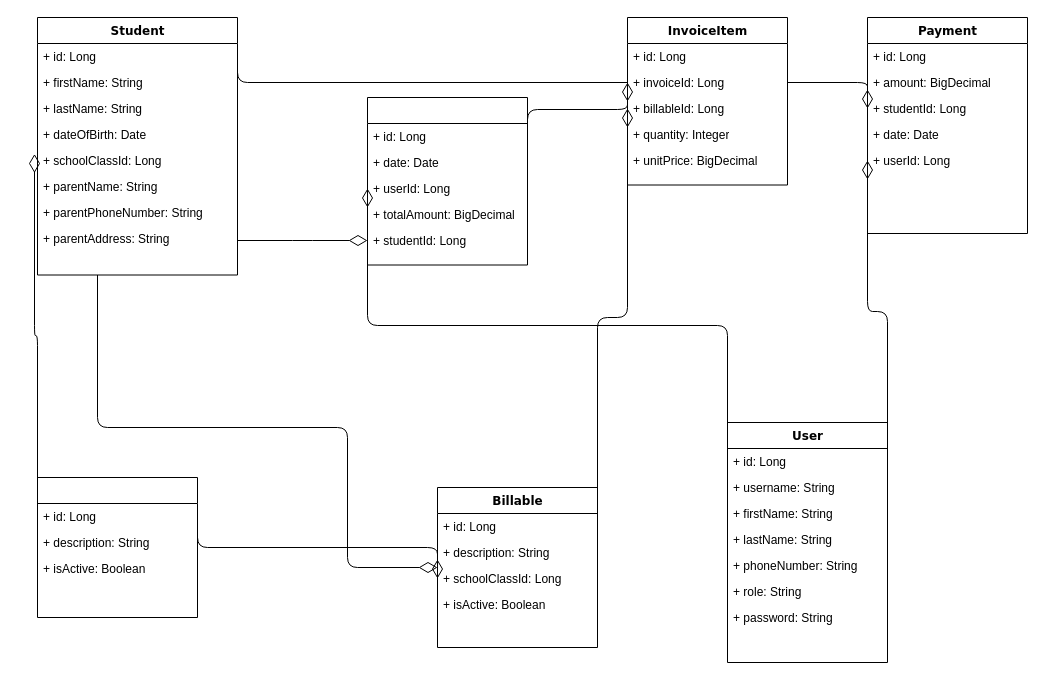
The diagram is 1045 pixels wide and 680 high, and some of its shapes have lost their labels. The box of each missing label's shape, as (x1, y1, x2, y2) in pixels:
Invoice: (366, 96, 528, 265)
SchoolClass: (36, 476, 198, 618)
